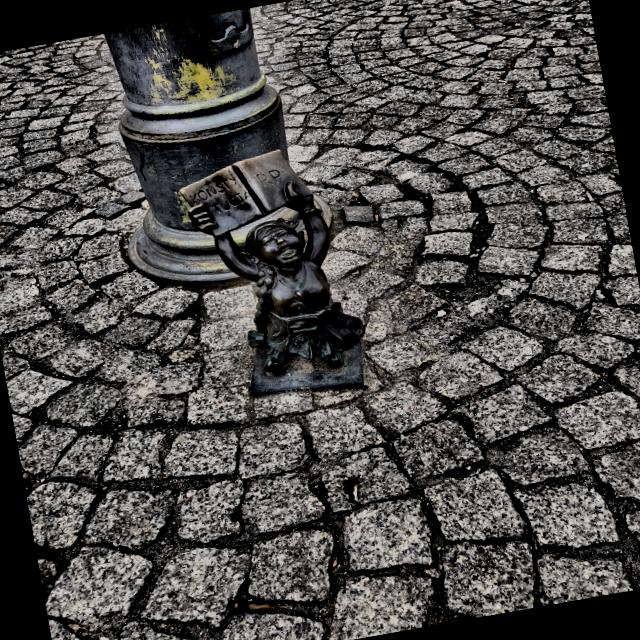Demokracja: (180, 150, 364, 395)
